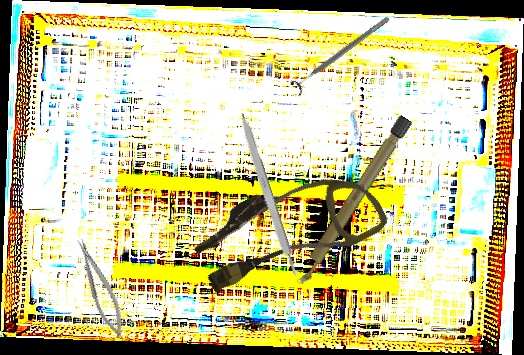Cannula: (183, 145, 392, 314)
Fixation Ring: (288, 11, 395, 97)
Needle Holder: (72, 234, 130, 342)
Scalpel Handle: (292, 114, 413, 288), (235, 110, 300, 281)
